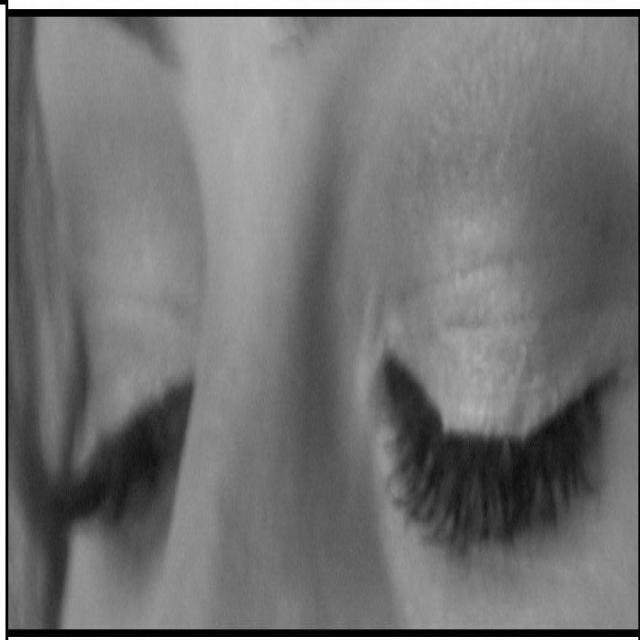real: (52, 170, 625, 600)
